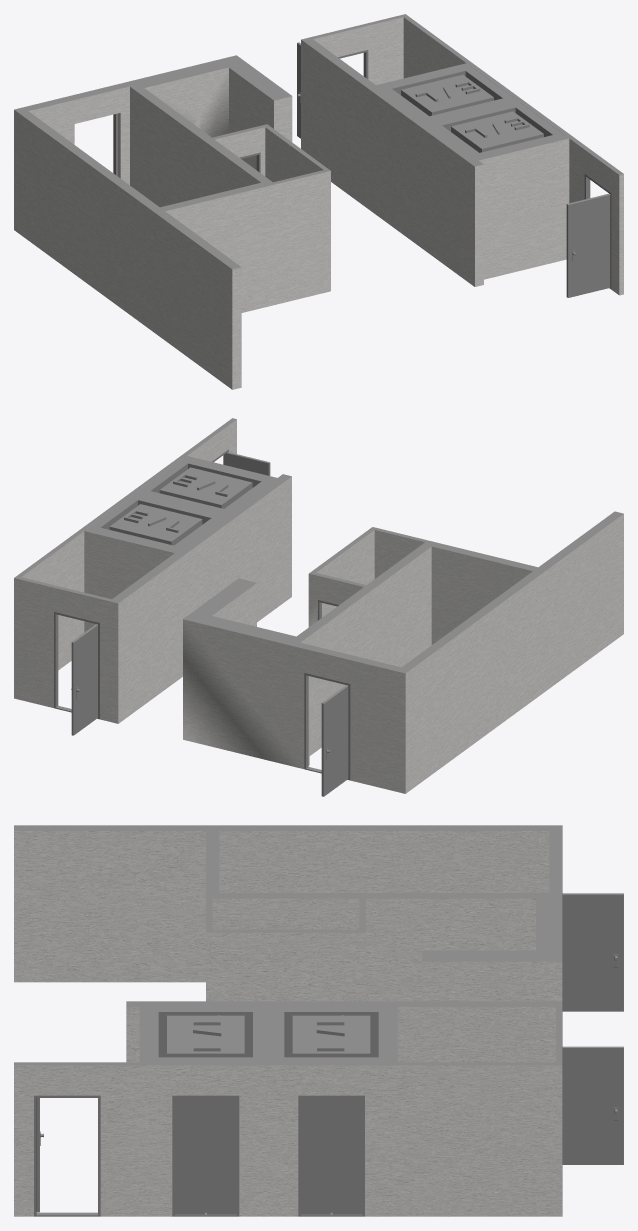
The model's file is mdf_room4-2.obj.
3 views of the same model, one above another, from view 1: azimuth 30°, elevation 25°; view 2: azimuth 150°, elevation 25°; view 3: azimuth 270°, elevation 25° (orthographic). The views are drawn at different scales.
Visible parts, largest first — view 1: Mesh02, Object001, Box005, Group140_2, Group142_2, TextPlus003; view 2: Mesh02, Object001, Box005, Group140_2, Group142_2, TextPlus003; view 3: Mesh02, Object001, Group142_2, Group140_2, Box005, TextPlus003.
Part boxes in pixels (x1,y1,x2,y2): Mesh02: [14, 17, 623, 389]; Object001: [14, 14, 623, 269]; Box005: [379, 65, 566, 158]; Group140_2: [297, 42, 610, 297]; Group142_2: [113, 50, 611, 289]; TextPlus003: [415, 81, 529, 137]; Mesh02: [14, 419, 623, 793]; Object001: [14, 418, 623, 673]; Box005: [87, 458, 274, 550]; Group140_2: [71, 452, 348, 796]; Group142_2: [54, 449, 350, 780]; TextPlus003: [124, 473, 228, 532]; Mesh02: [14, 831, 562, 1216]; Object001: [14, 825, 562, 1065]; Group142_2: [34, 954, 618, 1216]; Group140_2: [36, 893, 623, 1212]; Box005: [146, 1007, 390, 1212]; TextPlus003: [193, 1015, 344, 1051].
Bounding box in the file's own units: 335 × 100 × 360.
